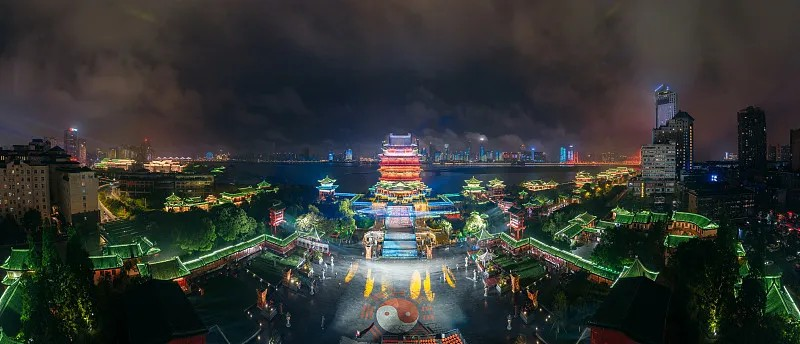Teng: (368, 131, 431, 210)
